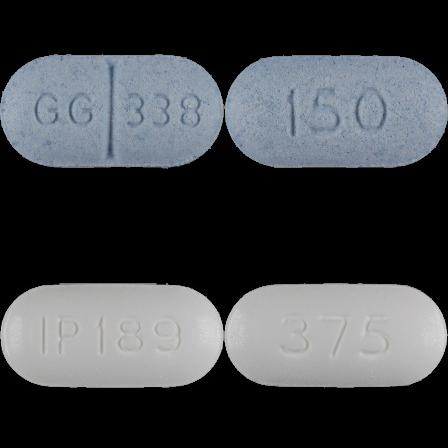66336-801: (0, 0, 224, 224)
